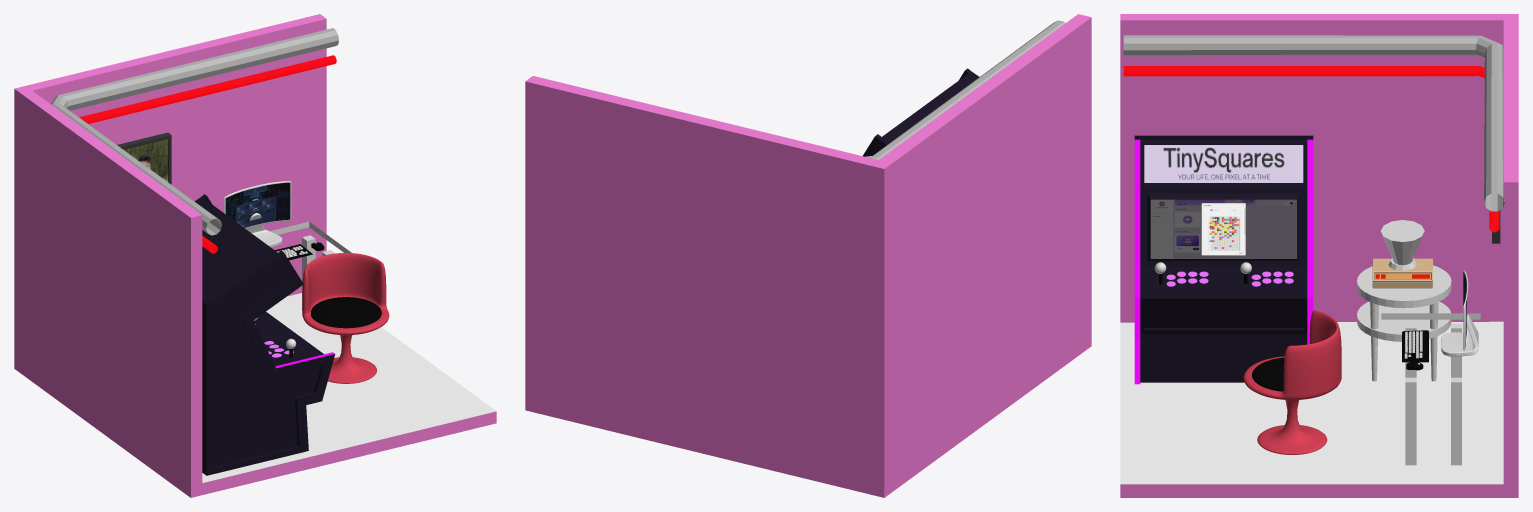
Rendered from roomv1.glb.
3 renders of one model, left to right at view 1: azimuth 30°, elevation 25°; view 2: azimuth 150°, elevation 25°; view 3: azimuth 270°, elevation 25°, orthographic. The views are drawn at different scales.
Visible parts, largest first — view 1: Room, Arcade, Pipes, Chair base, Monitor, Chair cushion, Cube; view 2: Room, Pipes, Arcade; view 3: Room, Arcade, Pipes, Chair base, Cylinder.001, Cylinder.002, Plane.038, Circle.001, Plane.006, Cylinder.003, Plane.008, Monitor Stand (+3 smaller).
Boxes of the visible parts, x1=… form: Room: x1=14, y1=14, x2=496, y2=497; Arcade: x1=195, y1=194, x2=335, y2=475; Pipes: x1=50, y1=28, x2=338, y2=253; Chair base: x1=302, y1=253, x2=389, y2=383; Monitor: x1=224, y1=181, x2=291, y2=228; Chair cushion: x1=310, y1=297, x2=381, y2=328; Cube: x1=117, y1=132, x2=171, y2=184; Room: x1=525, y1=14, x2=1091, y2=497; Pipes: x1=865, y1=20, x2=1065, y2=159; Arcade: x1=863, y1=68, x2=979, y2=156; Room: x1=1120, y1=14, x2=1518, y2=497; Arcade: x1=1134, y1=135, x2=1313, y2=384; Pipes: x1=1123, y1=35, x2=1504, y2=232; Chair base: x1=1243, y1=310, x2=1341, y2=454; Cylinder.001: x1=1357, y1=265, x2=1451, y2=308; Cylinder.002: x1=1357, y1=301, x2=1451, y2=341; Plane.038: x1=1372, y1=258, x2=1432, y2=288; Circle.001: x1=1381, y1=220, x2=1424, y2=265; Plane.006: x1=1405, y1=377, x2=1416, y2=465; Cylinder.003: x1=1370, y1=302, x2=1438, y2=381; Plane.008: x1=1451, y1=377, x2=1461, y2=465; Monitor Stand: x1=1441, y1=314, x2=1478, y2=356.
Size of what is drawn, in the model's own units: 8.1 by 7 by 8.
Materials: 29 (4 with a texture image).
